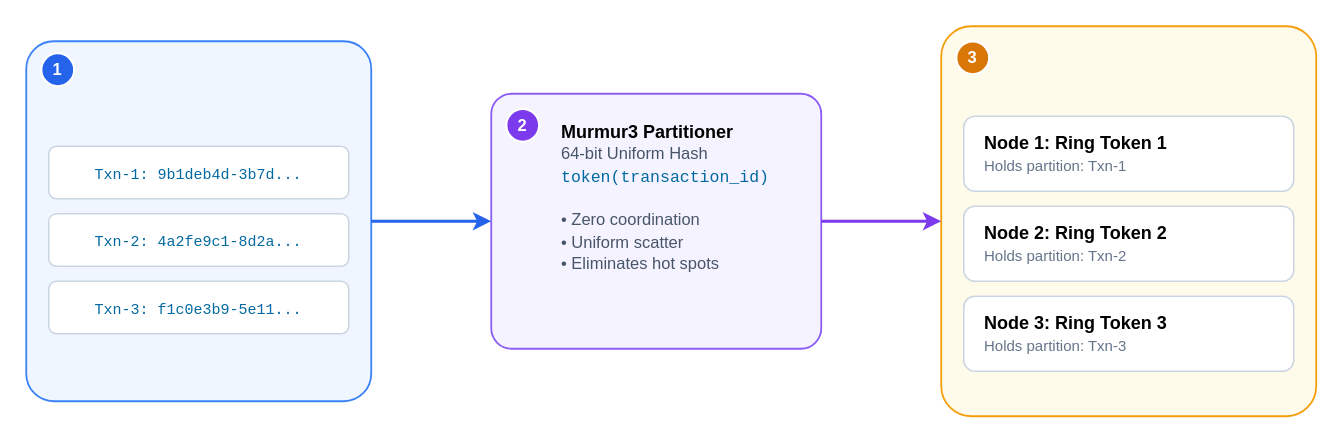
The diagram is 1344 pixels wide and 444 high, and some of its shapes have lost their labels. The shapes that lost their labels are listed below. From the top down, each one's box as (x1, y1, x2, y2) in pixels, then its label:
(25, 40, 371, 401): High Inflow Requests 100,000+ Concurrent Saga Transactions
(940, 25, 1316, 416): Distributed Cassandra Nodes Single-Row Partition Writes
